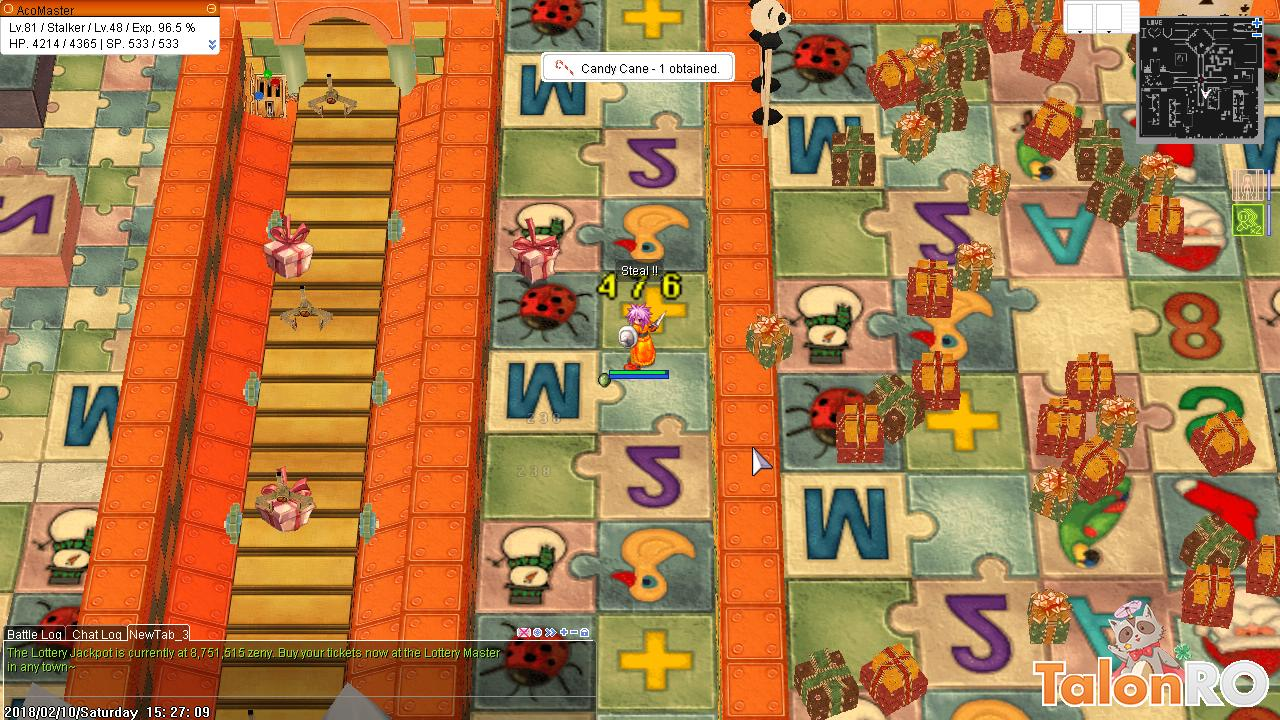loot: (592, 368, 615, 393)
myst_case: (254, 464, 317, 541), (508, 218, 563, 291), (262, 215, 319, 284)
